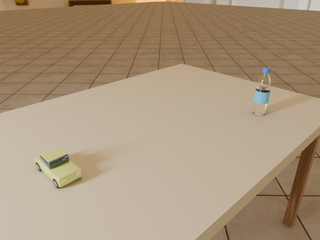bottle: (252, 68, 271, 115)
toy_car: (35, 147, 82, 188)
